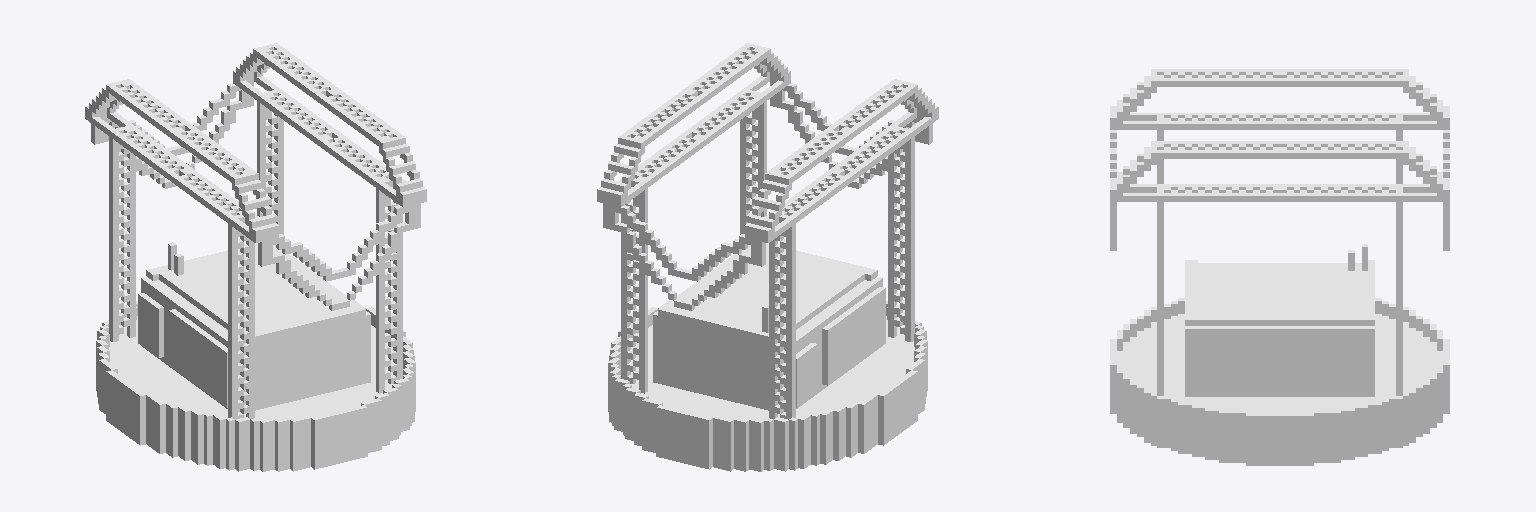
File: Pylon.obj
3 renders of one model, left to right at view 1: azimuth 30°, elevation 25°; view 2: azimuth 150°, elevation 25°; view 3: azimuth 270°, elevation 25°, orthographic.
Bounding box in the file's own units: 45 × 47 × 50.